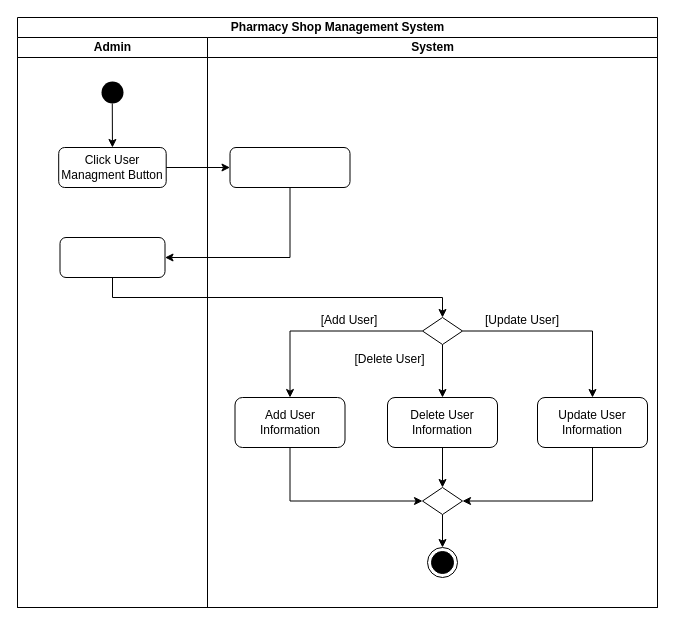
The diagram is 675 pixels wide and 625 high, and some of its shapes have lost their labels. Each missing label, with the centre of its shape:
Display User View: (289,167)
select option: (112,257)
